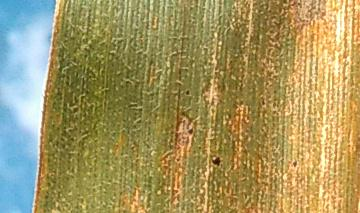tarspot: (209, 154, 223, 169), (184, 125, 196, 137), (289, 158, 300, 169), (181, 87, 192, 98)
